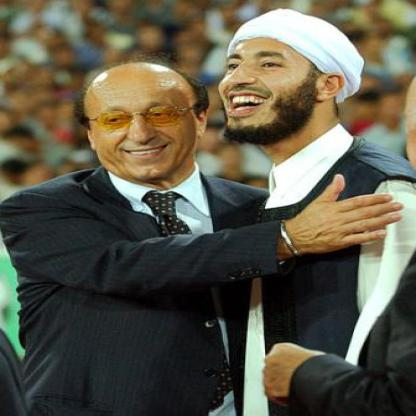face: (212, 13, 321, 147), (90, 64, 200, 184)
